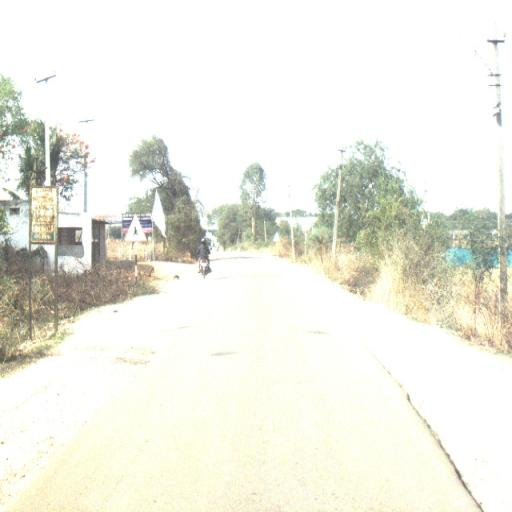street_light_0: (472, 50, 502, 88)
